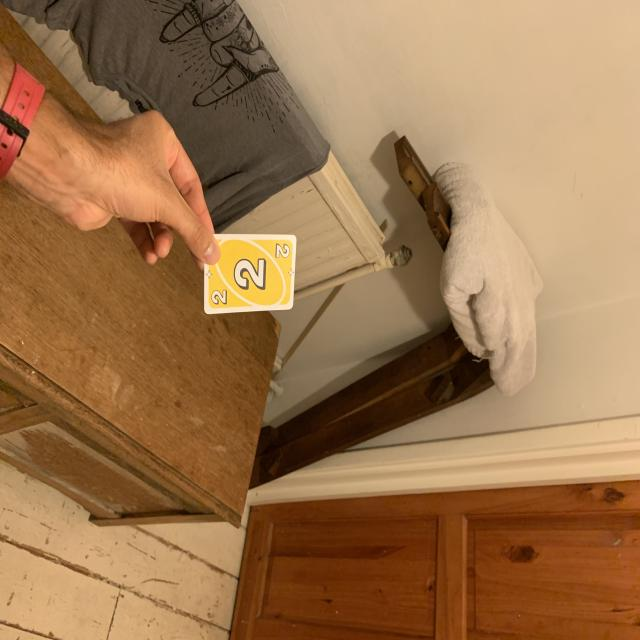lyellow-2: (269, 239, 292, 265)
